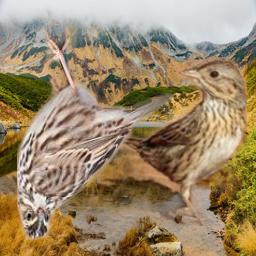Sparrow: (17, 25, 172, 240), (97, 57, 247, 226)
